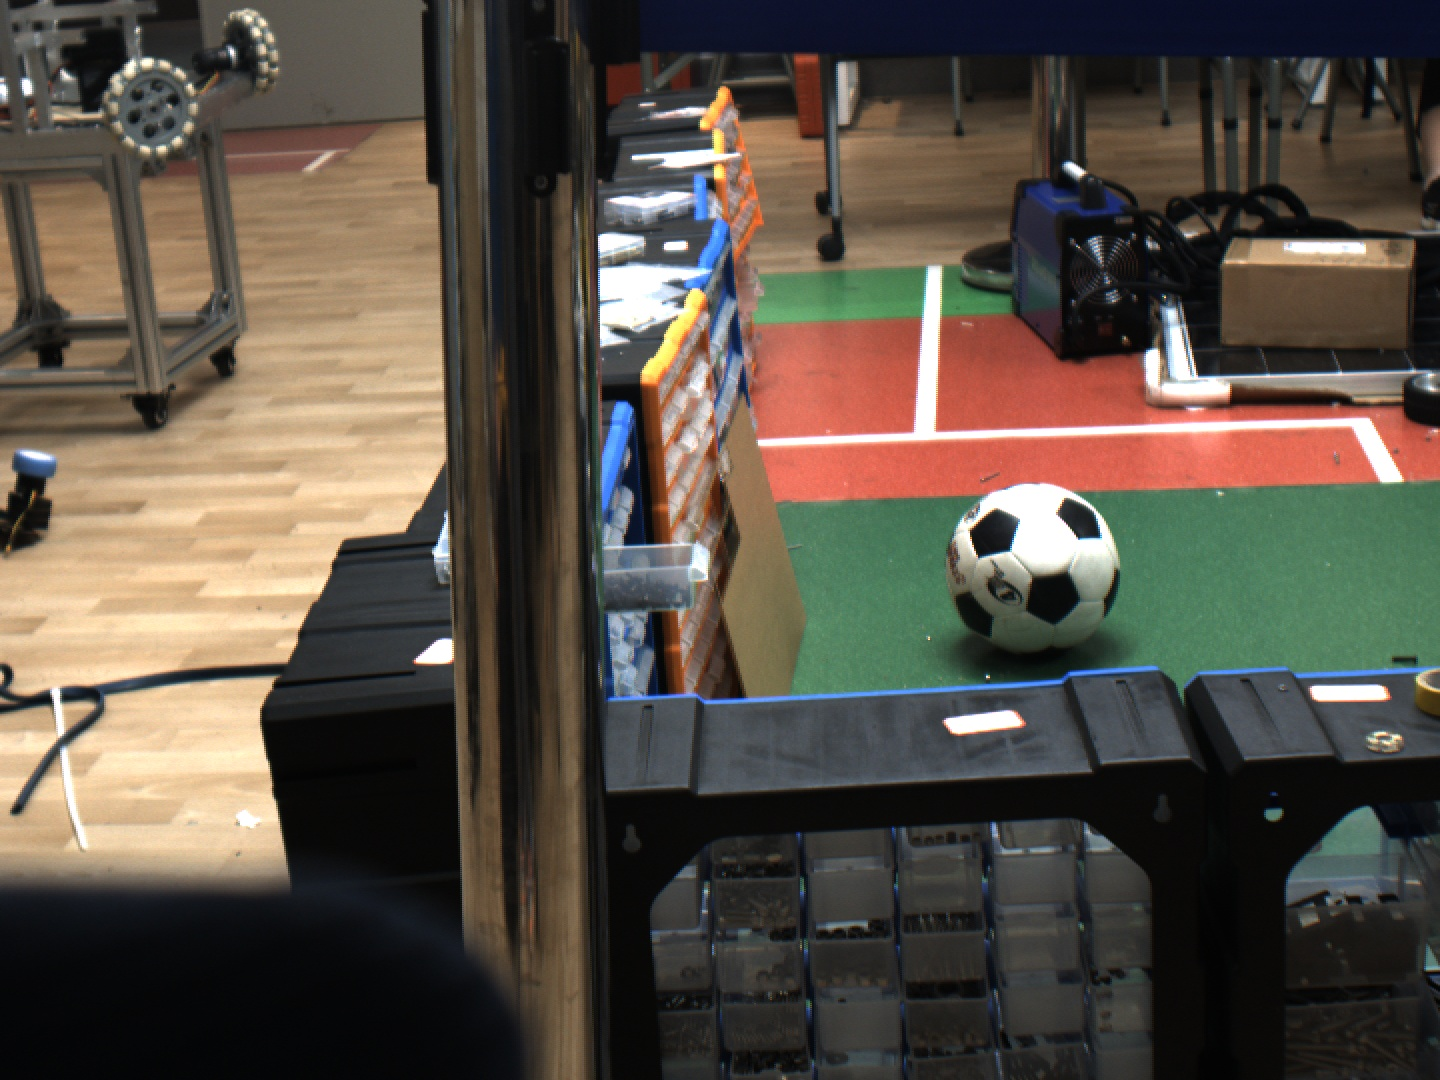ball: (921, 476, 1147, 658)
